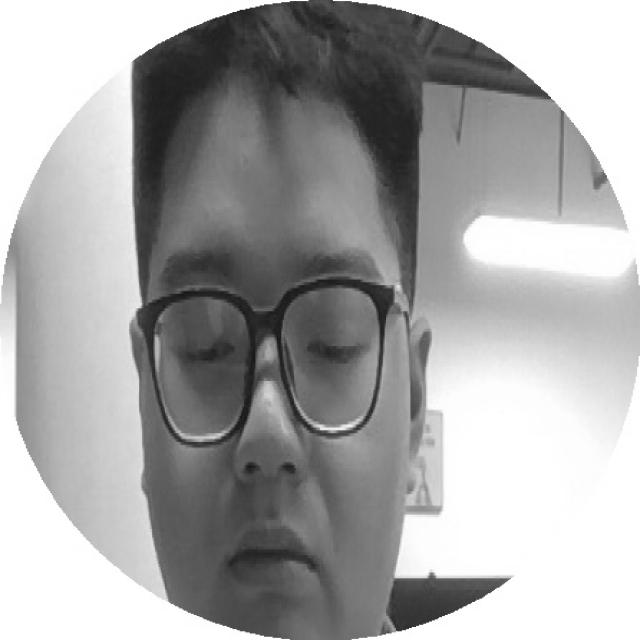real: (152, 74, 411, 634), (141, 281, 401, 386)
